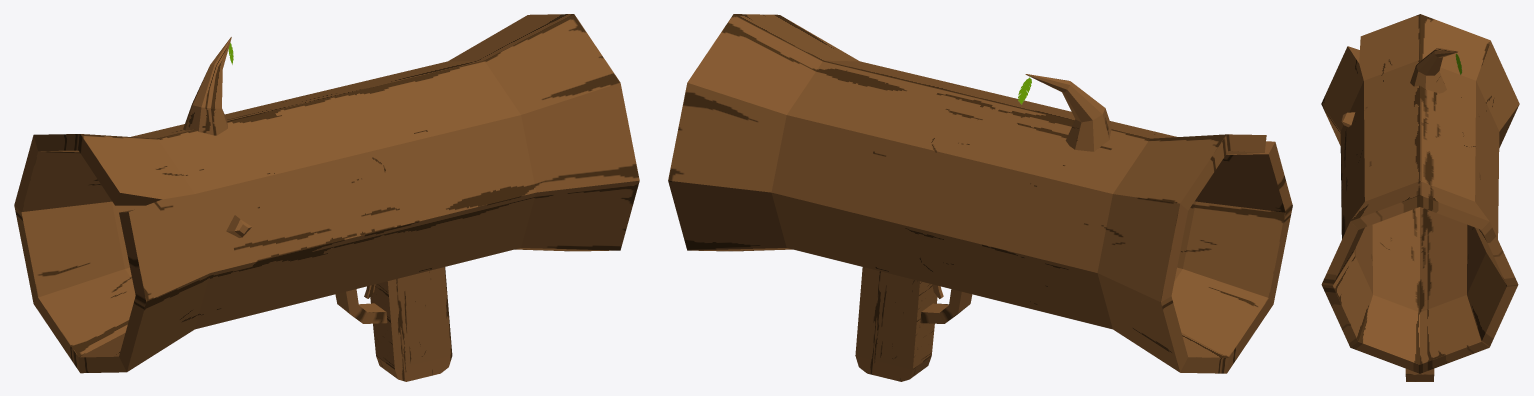
The model's file is Bazooka.fbx.
3 views of the same model, side by side, from view 1: azimuth 30°, elevation 25°; view 2: azimuth 150°, elevation 25°; view 3: azimuth 270°, elevation 25° (orthographic). The views are drawn at different scales.
Parts seen in each view (by area): view 1: Bazooka; view 2: Bazooka; view 3: Bazooka.
Boxes of the visible parts, x1,y1,x2,y2 form: Bazooka: [14, 14, 639, 381]; Bazooka: [668, 14, 1292, 381]; Bazooka: [1321, 14, 1519, 381].
Bounding box in the file's own units: 55.56 × 37.7 × 25.47.
